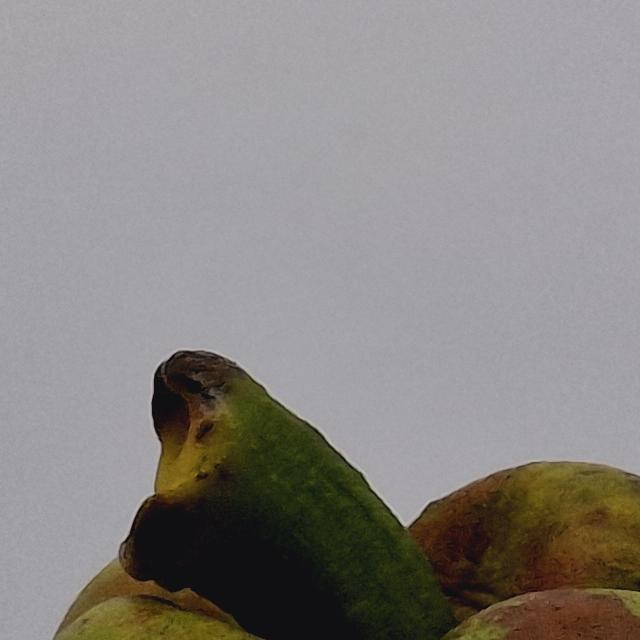mangosteen: (0, 385, 640, 640)
